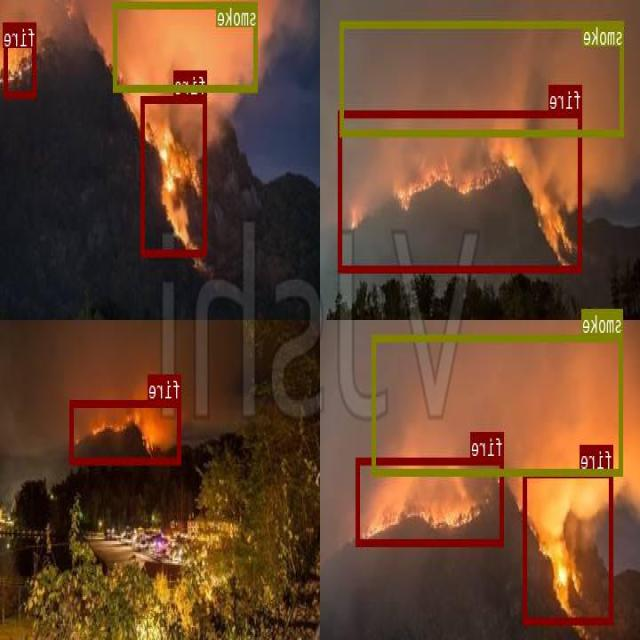fire: (340, 110, 582, 272), (524, 469, 614, 623), (356, 458, 505, 544), (142, 95, 207, 255), (70, 399, 182, 463), (5, 22, 37, 97)
smoke: (373, 334, 624, 475), (340, 20, 625, 135), (115, 2, 258, 90)
